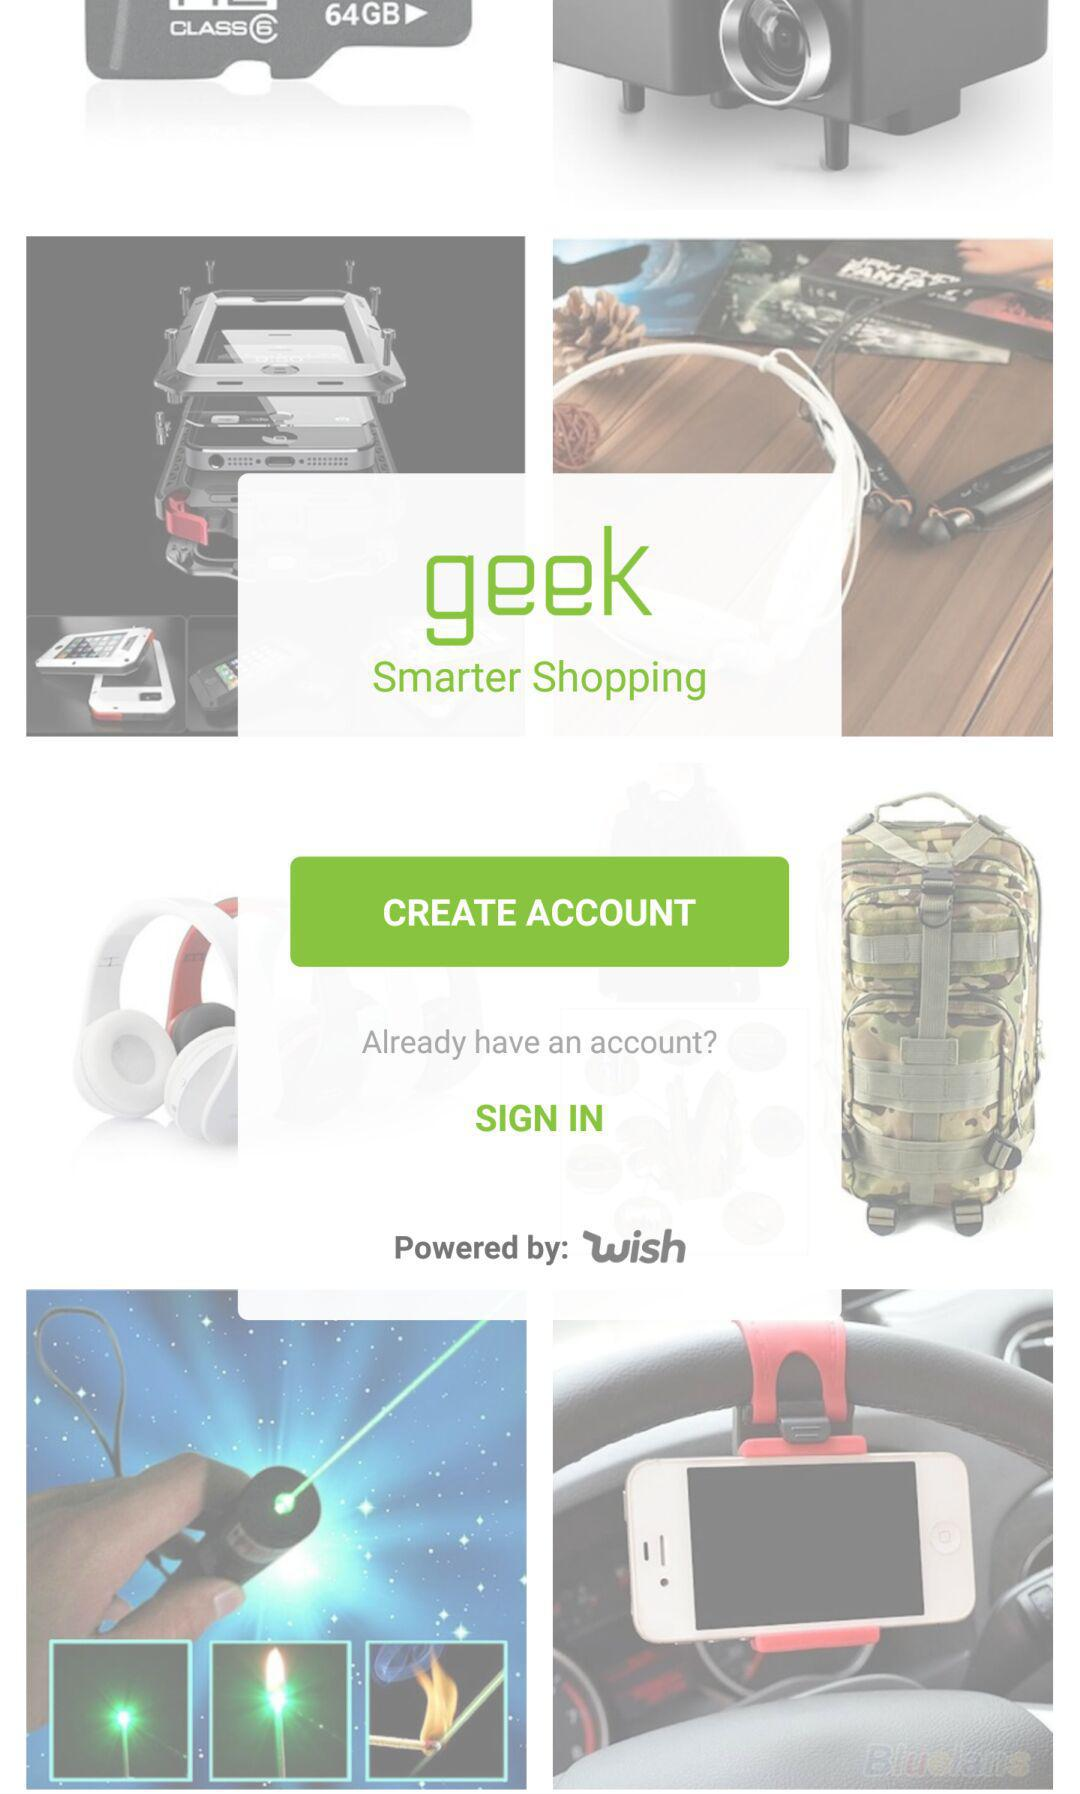BackgroundImage: (1, 1, 1080, 1794)
Card: (238, 472, 843, 1321)
Image: (582, 1228, 688, 1265)
Text: (427, 525, 653, 647), (373, 660, 707, 704), (361, 1026, 717, 1064), (395, 1233, 570, 1267), (475, 1103, 603, 1133)
TextButton: (290, 856, 790, 967)
